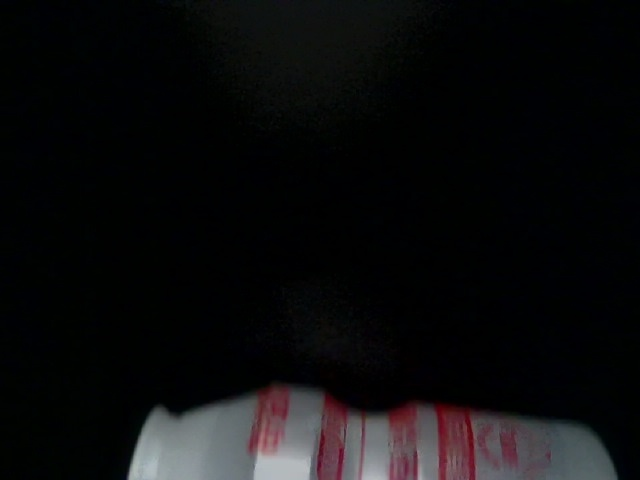CYLJ: (337, 124, 452, 229)
